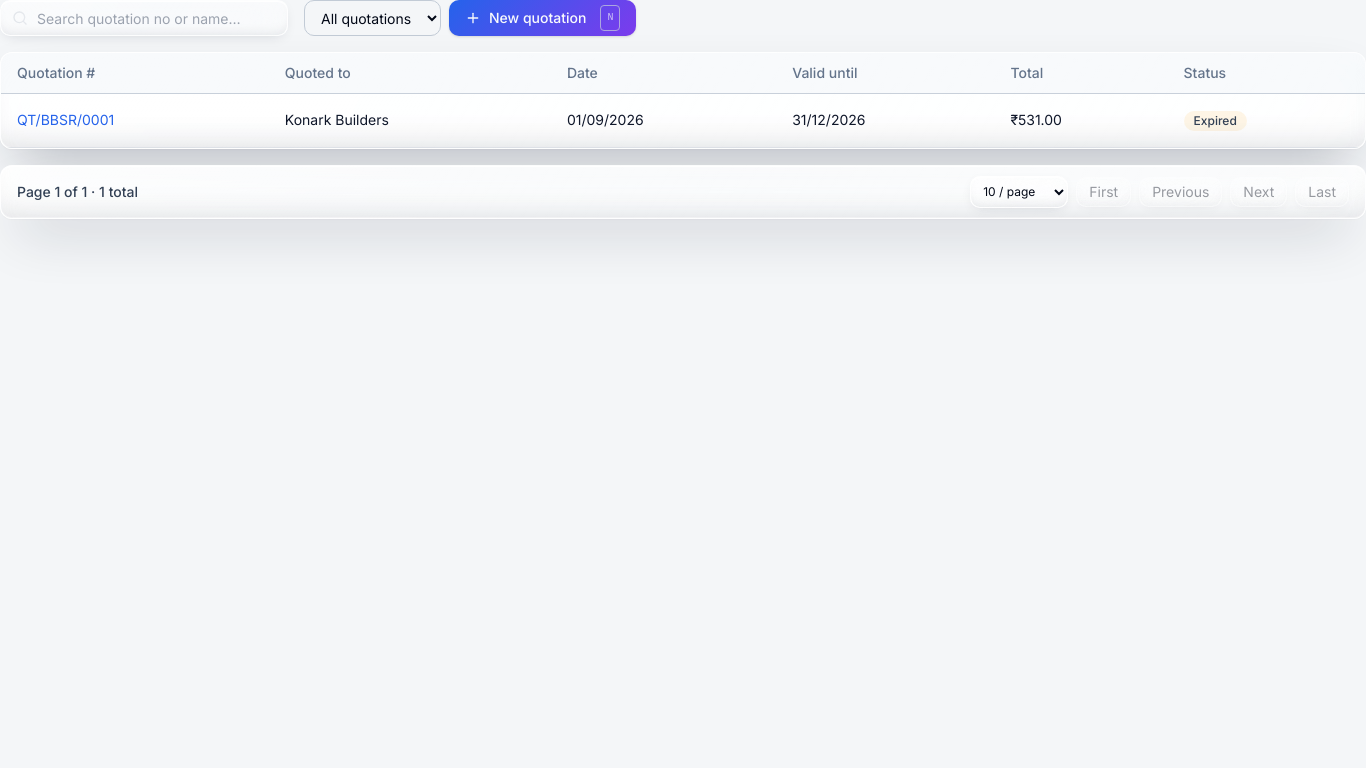
Quotations page › opens the detail, where converting is offered but an expired quote is not convertible
Click the button "QT/BBSR/0001" at (66, 120), box [17,110,114,130]
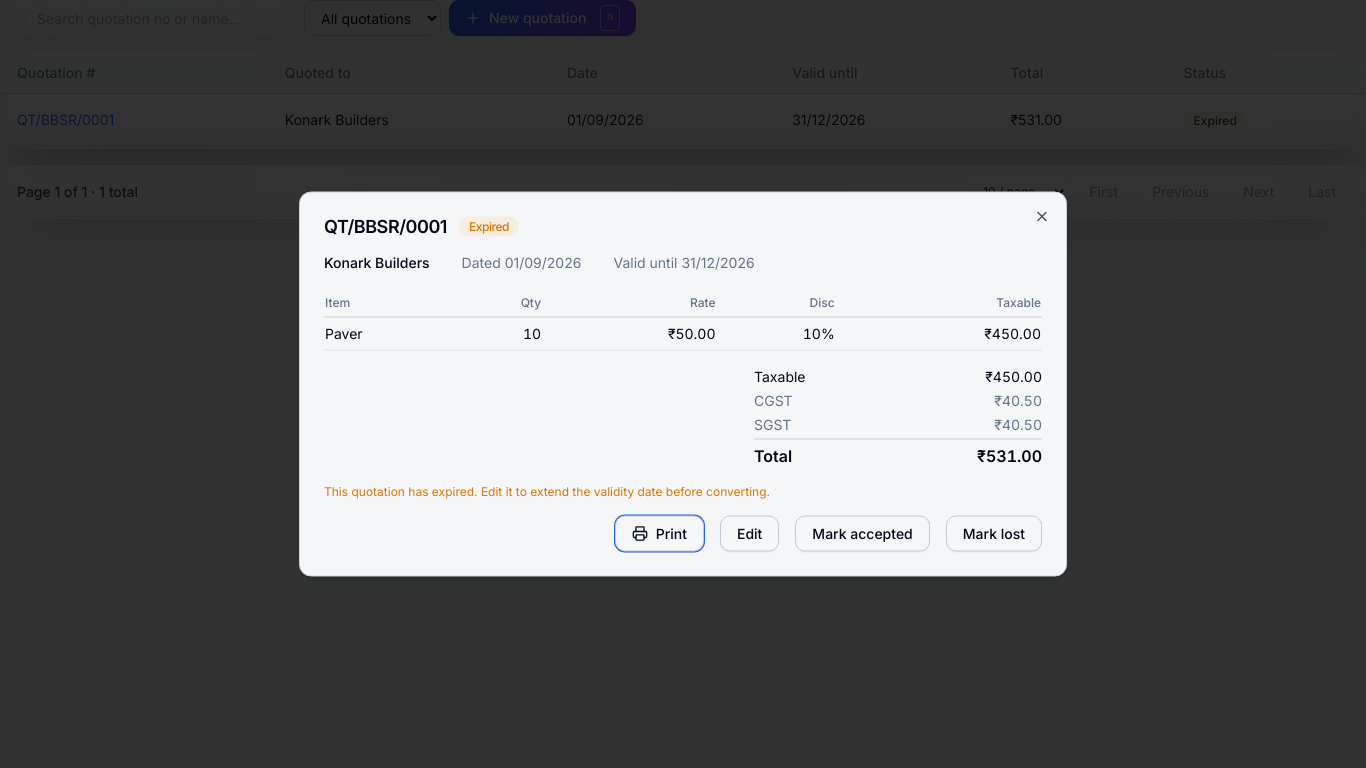
Now the text "This quotation has expired" is shown, box [324,484,770,498]
